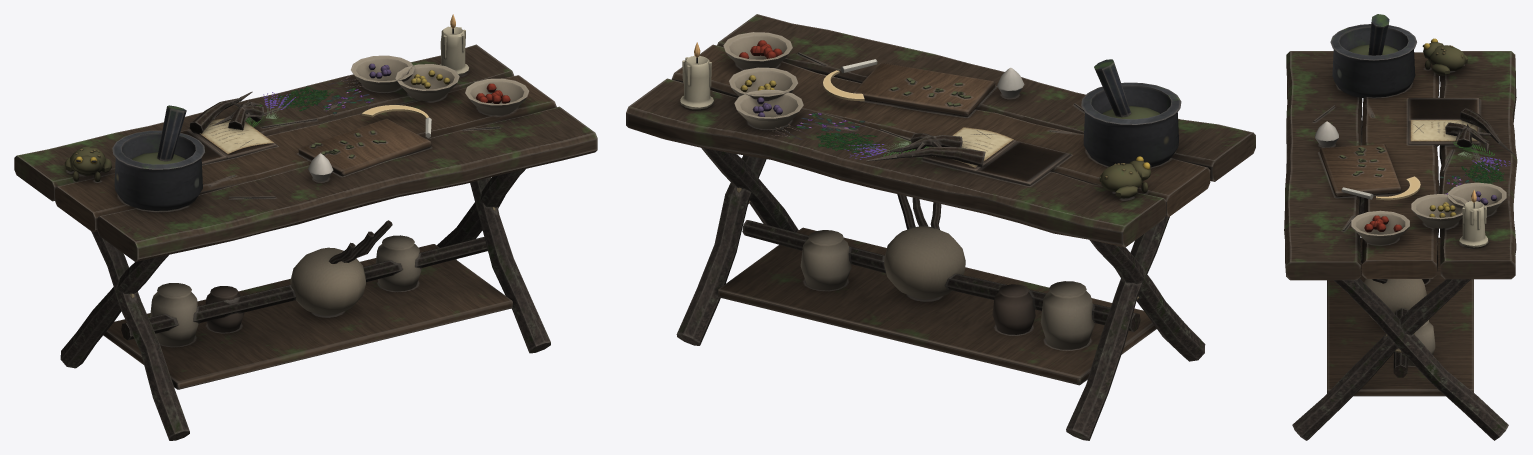
File: WitchWorkTable.fbx
The picture shows the model from 3 angles, left to right: view 1: azimuth 30°, elevation 25°; view 2: azimuth 150°, elevation 25°; view 3: azimuth 270°, elevation 25°; orthographic projection. The views are drawn at different scales.
Visible parts, largest first — view 1: WitchWorkTable_Main, WitchWorkTable_Leaves; view 2: WitchWorkTable_Main, WitchWorkTable_Leaves; view 3: WitchWorkTable_Main, WitchWorkTable_Leaves.
Boxes of the visible parts, left/top/right/bottom form: WitchWorkTable_Main: left=14, top=26, right=597, bottom=440; WitchWorkTable_Leaves: left=245, top=75, right=373, bottom=126; WitchWorkTable_Main: left=626, top=14, right=1255, bottom=440; WitchWorkTable_Leaves: left=769, top=113, right=931, bottom=159; WitchWorkTable_Main: left=1284, top=14, right=1517, bottom=440; WitchWorkTable_Leaves: left=1439, top=141, right=1510, bottom=200.
Size of the model in its own units: 740 by 457 by 352.
